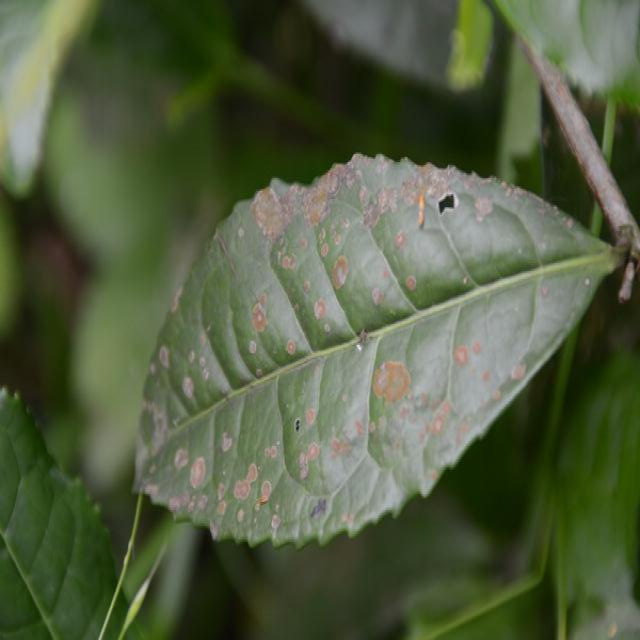Tea algae leaf spot: (140, 93, 562, 514)
